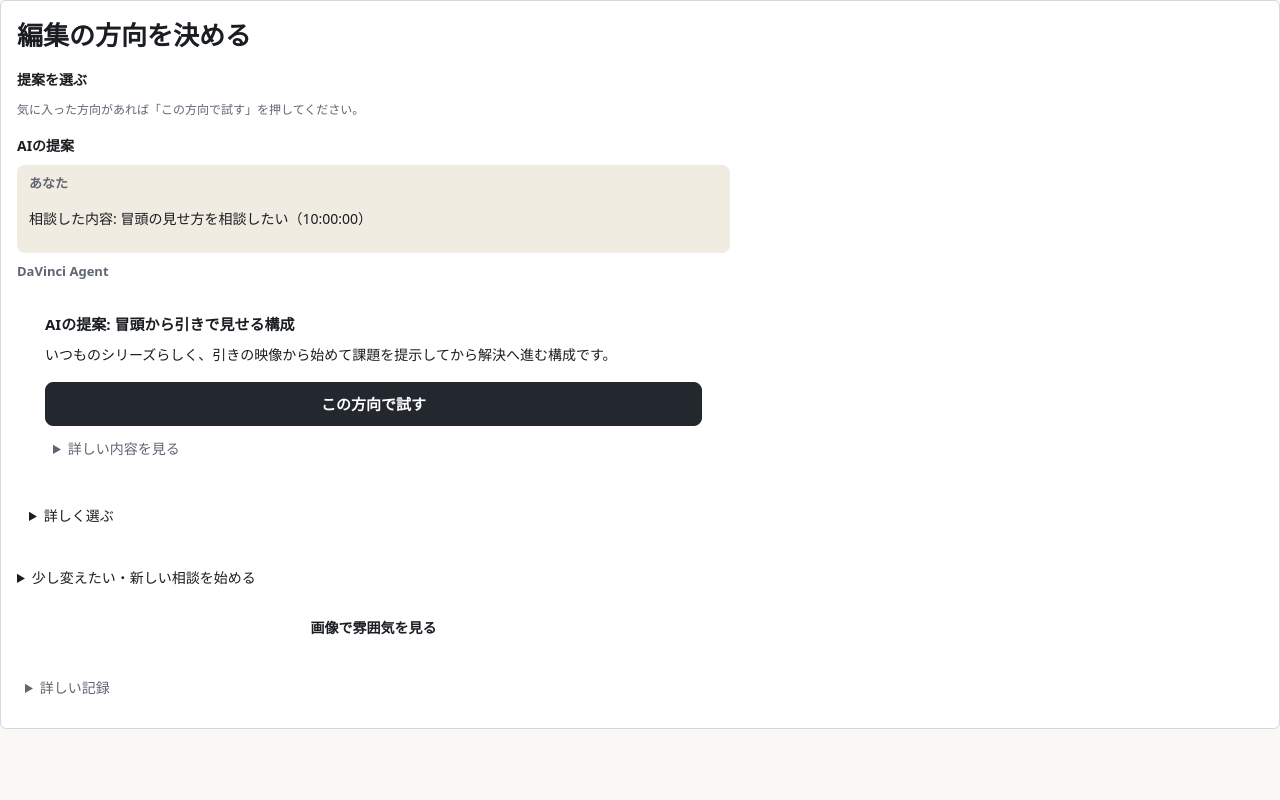
Test: ConsultationPanel（UX 2.5 slice-1） › 提案は要約が主表示、詳細は<details>を開くまで閉じている
The width and height of the screenshot is (1280, 800).
Expected: the number of elements with test id "consultation-proposal" is 1, [29, 297, 718, 489]
Expected: the heading with test id "consultation-proposal-title" reads "AIの提案: 冒頭から引きで見せる構成", [45, 314, 294, 334]
Click the heading "詳しい内容を見る" at [124, 449], box [68, 439, 180, 458]
(page scrolled)
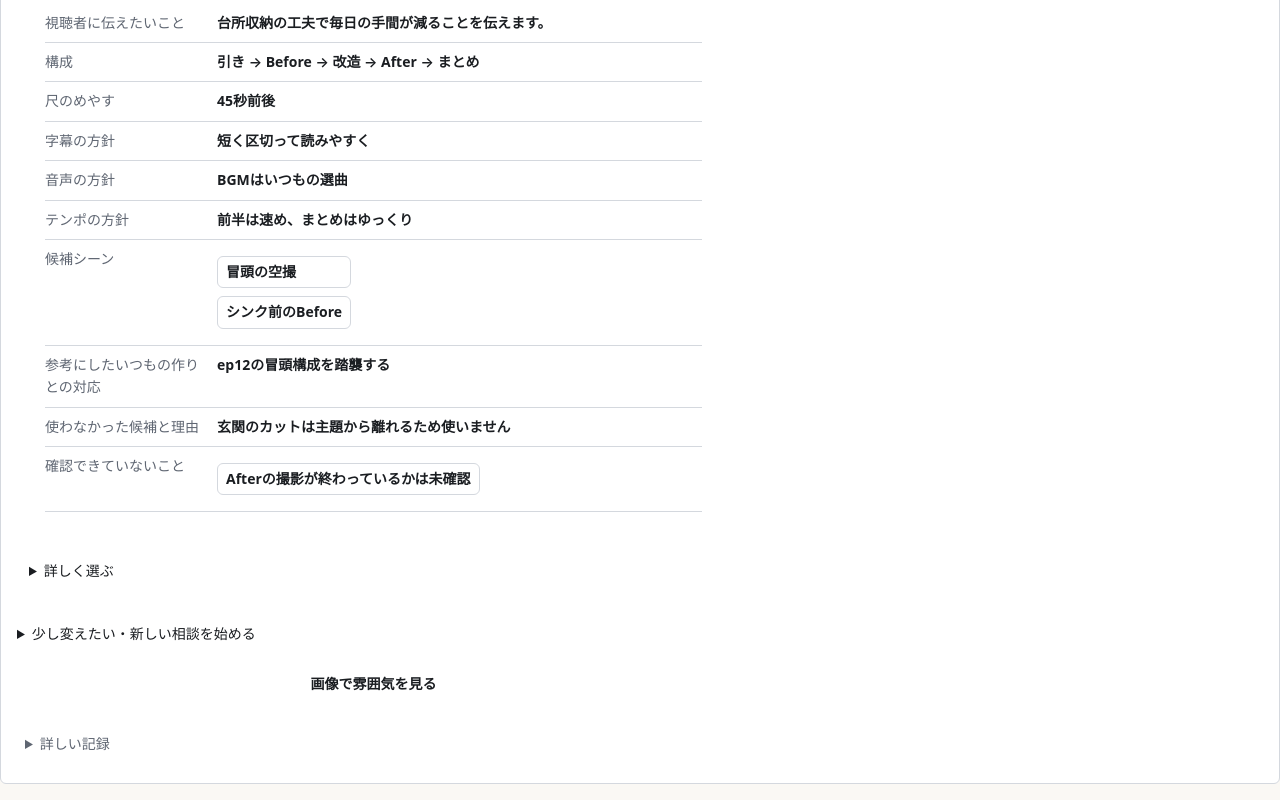
Result: the text with test id "consultation-proposal-duration" reads "45秒前後" at [217, 91, 275, 110]
Result: the list item "冒頭の空撮" is shown at [217, 256, 351, 288]
Result: the text "ep12の冒頭構成を踏襲する" is shown at [217, 355, 390, 374]
